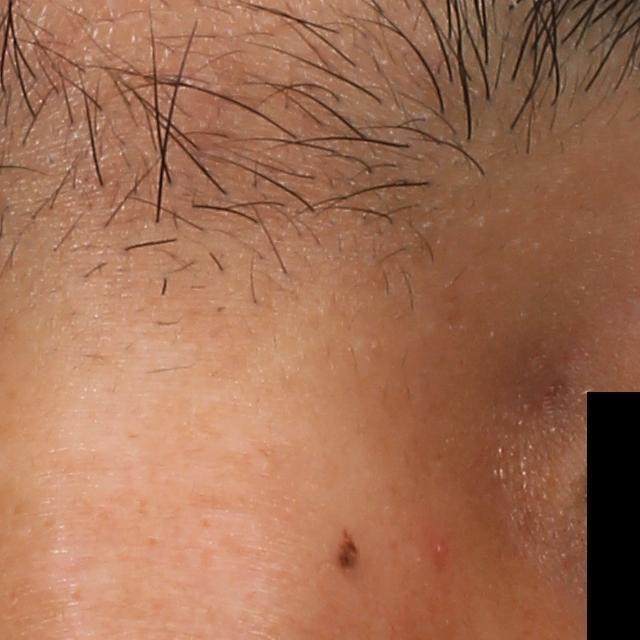nevus: (331, 522, 361, 579)
